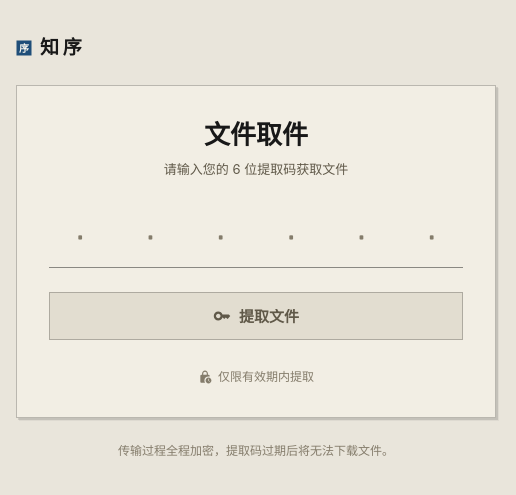
Test: file pickup › shakes the code row and explains why the pickup failed
In the 1st field with placeholder "·": (80, 239) 49,211 -> 111,267, type "A"
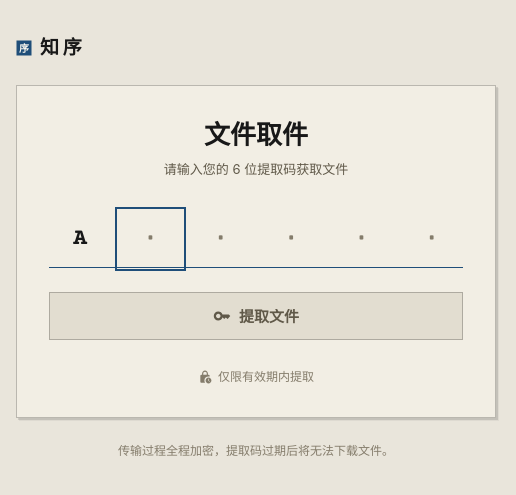
In the 1st field with placeholder "·": (150, 239) 119,211 -> 182,267, type "B"
In the 1st field with placeholder "·": (221, 239) 190,211 -> 252,267, type "1"
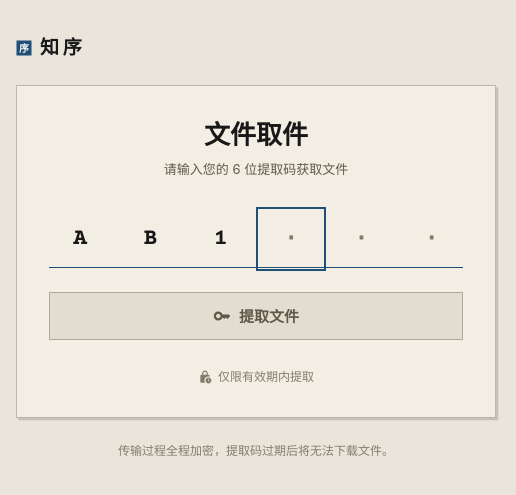
In the 1st field with placeholder "·": (291, 239) 260,211 -> 322,267, type "2"
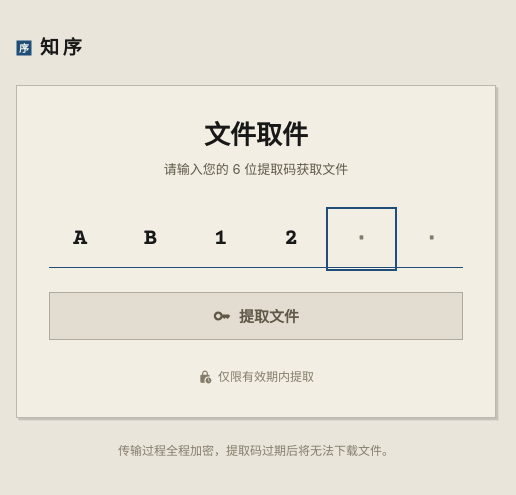
In the 1st field with placeholder "·": (361, 239) 330,211 -> 393,267, type "C"
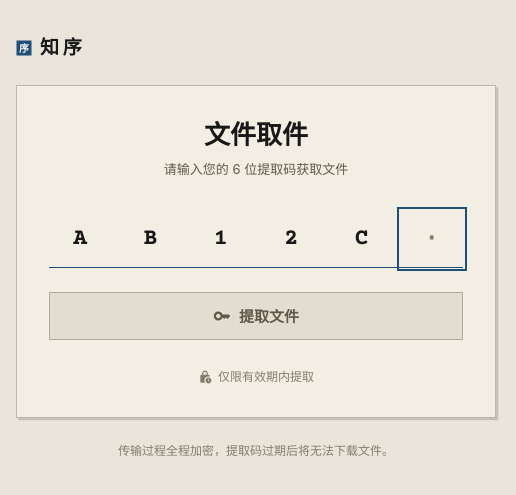
In the field with placeholder "·": (432, 239) 401,211 -> 463,267, type "D"
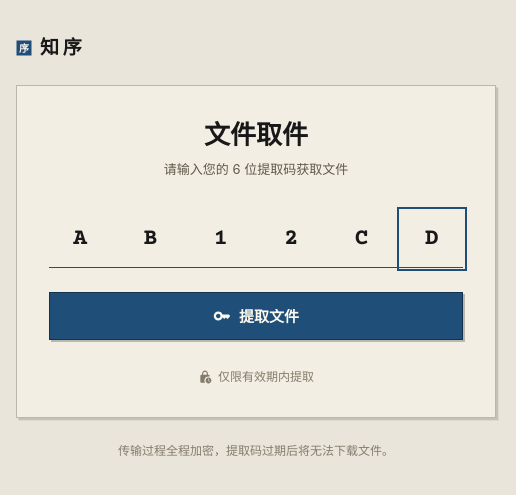
Click the button with aria-label "提取文件": (256, 316) 49,292 -> 463,340
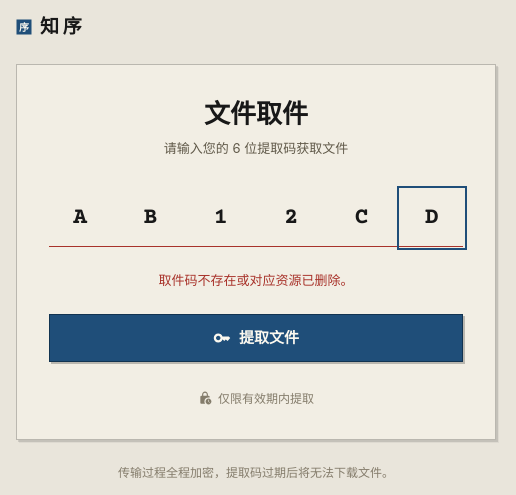
Check: the text "取件码不存在或对应资源已删除。" is shown, box 158,272 -> 354,288
